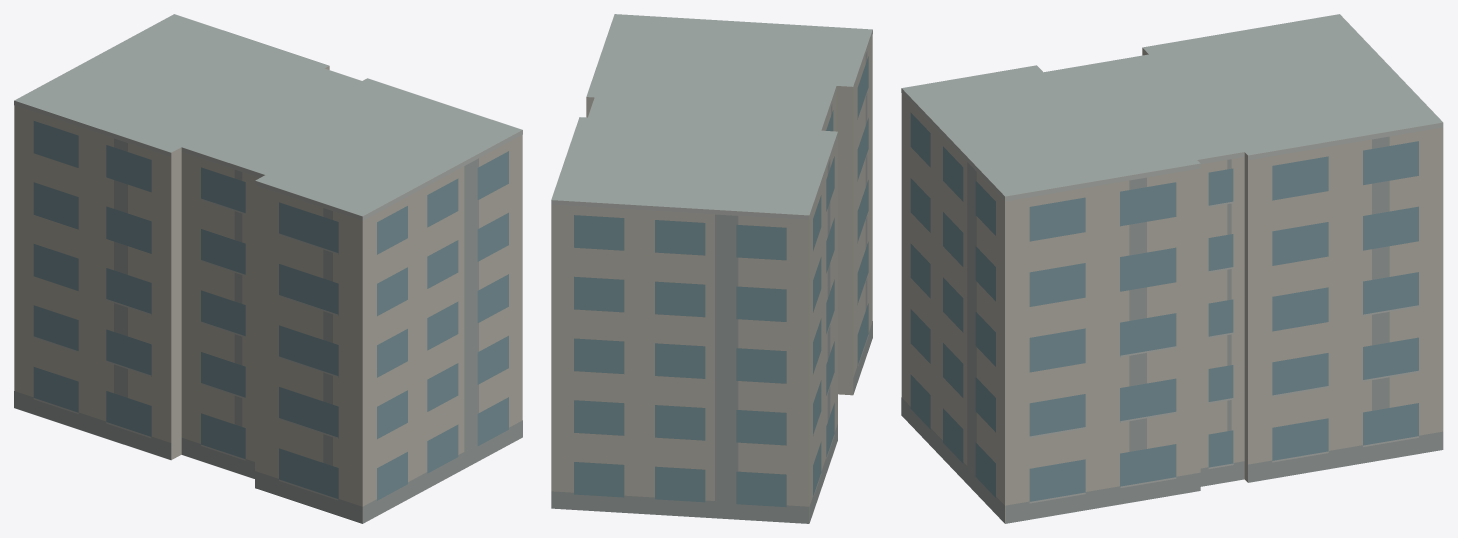
The model's file is survey-upis-32593825.glb.
3 renders of one model, left to right at view 1: azimuth 30°, elevation 25°; view 2: azimuth 150°, elevation 25°; view 3: azimuth 270°, elevation 25°, orthographic. The views are drawn at different scales.
Parts seen in each view (by area): view 1: survey-upis-32593825.tmp; view 2: survey-upis-32593825.tmp; view 3: survey-upis-32593825.tmp.
Part boxes in pixels (x1,y1,x2,y2): survey-upis-32593825.tmp: [14, 14, 522, 523]; survey-upis-32593825.tmp: [551, 14, 872, 523]; survey-upis-32593825.tmp: [901, 14, 1443, 523].
Size of the model in its own units: 19.39 by 16.2 by 24.31.
